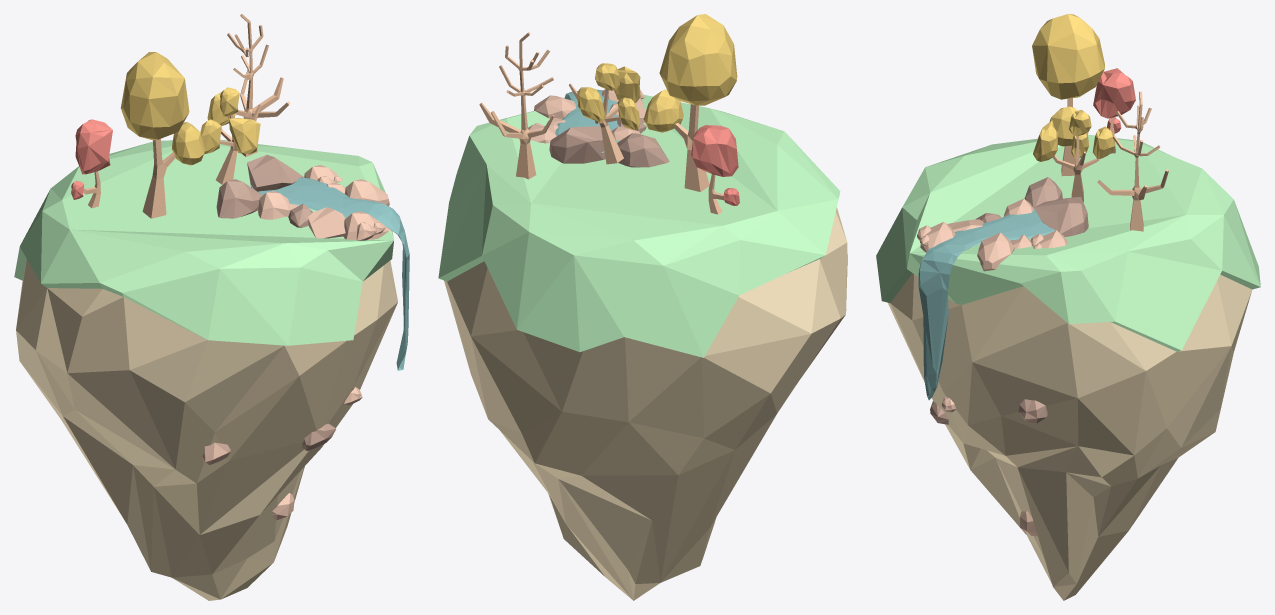
Rendered from small-island.glb.
3 renders of one model, left to right at view 1: azimuth 30°, elevation 25°; view 2: azimuth 150°, elevation 25°; view 3: azimuth 270°, elevation 25°, orthographic. The views are drawn at different scales.
Parts seen in each view (by area): view 1: Base, Top, Cube.001, Water, Tree 2.002, Cube.003, Rock.001, Rock, Tree, Cube.002, Rock.009, Cube.007 (+6 smaller); view 2: Base, Top, Cube.001, Tree 2.002, Cube.003, Rock.001, Rock, Cube.002, Tree, Tree 2.001, Water, Cube.008 (+4 smaller); view 3: Base, Top, Water, Cube.001, Tree 2.002, Cube.003, Rock.001, Rock.008, Rock, Cube.007, Tree 2.001, Cube.002 (+3 smaller).
Part boxes in pixels (x1,y1,x2,y2): Base: (16,259,397,600); Top: (14,140,393,345); Cube.001: (120,52,189,140); Water: (251,177,409,370); Tree 2.002: (227,14,290,156); Cube.003: (75,119,112,174); Rock.001: (247,154,303,191); Rock: (216,179,262,218); Tree: (142,139,175,218); Cube.002: (172,122,205,165); Rock.009: (308,207,345,238); Cube.007: (229,118,260,154); Base: (444,207,847,600); Top: (438,94,840,357); Cube.001: (659,14,737,105); Tree 2.002: (479,32,554,179); Cube.003: (691,125,738,176); Rock.001: (549,126,615,163); Rock: (617,133,669,167); Cube.002: (643,89,683,132); Tree: (673,104,709,191); Tree 2.001: (569,83,623,164); Water: (555,89,618,153); Cube.008: (577,87,605,122); Base: (888,273,1251,600); Top: (876,134,1260,351); Water: (918,209,1054,399); Cube.001: (1032,14,1104,99); Tree 2.002: (1097,91,1168,231); Cube.003: (1093,68,1135,118); Rock.001: (1034,196,1088,236); Rock.008: (977,232,1014,271); Rock: (1024,177,1062,208); Cube.007: (1033,120,1058,161); Tree 2.001: (1052,136,1099,202); Cube.002: (1049,106,1088,146).
Bounding box in the file's own units: 1165 × 1771 × 1115.
